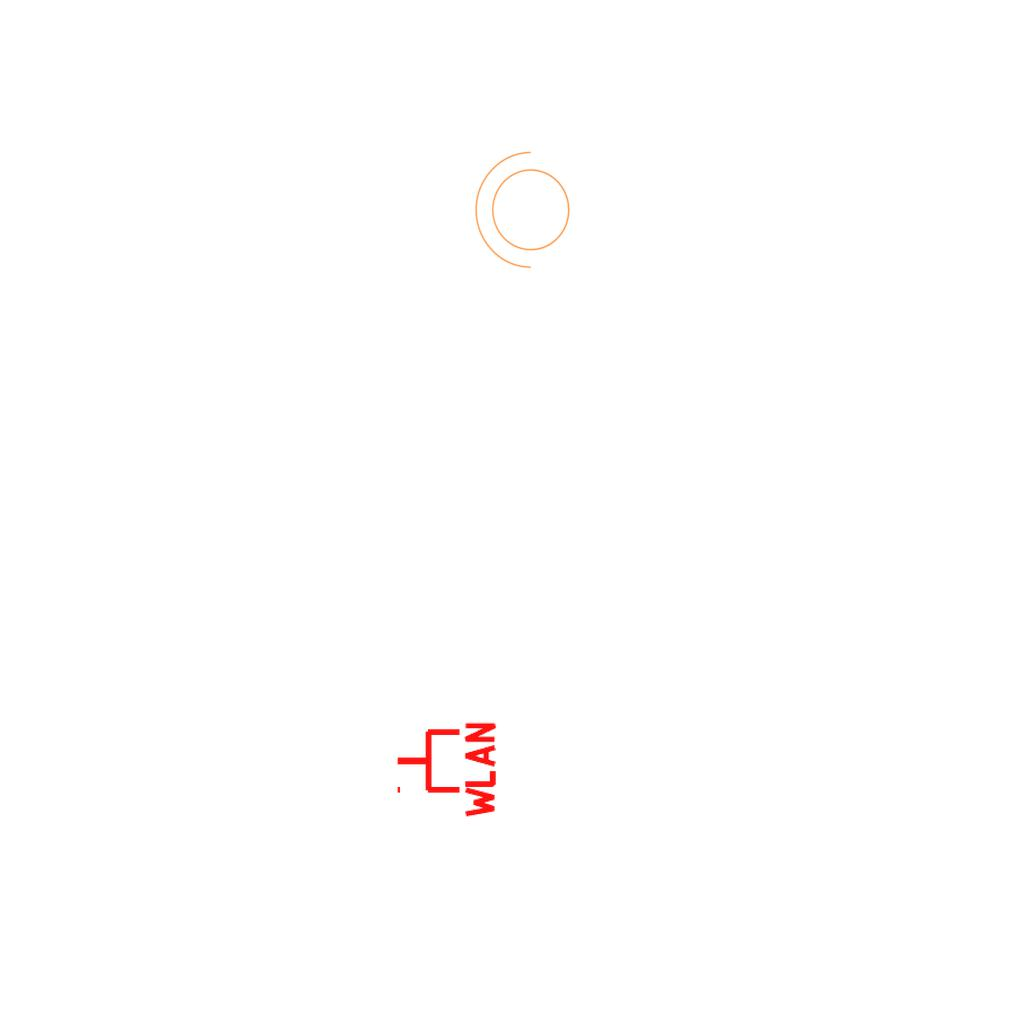Scheinwerfer_fuer_Alarmbeleuchtung: (470, 147, 582, 279)
WLAN: (393, 718, 498, 822)
